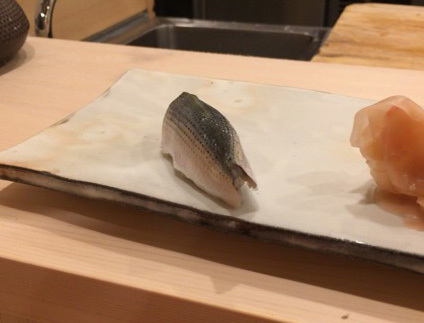spotted-shad: (157, 87, 258, 213)
